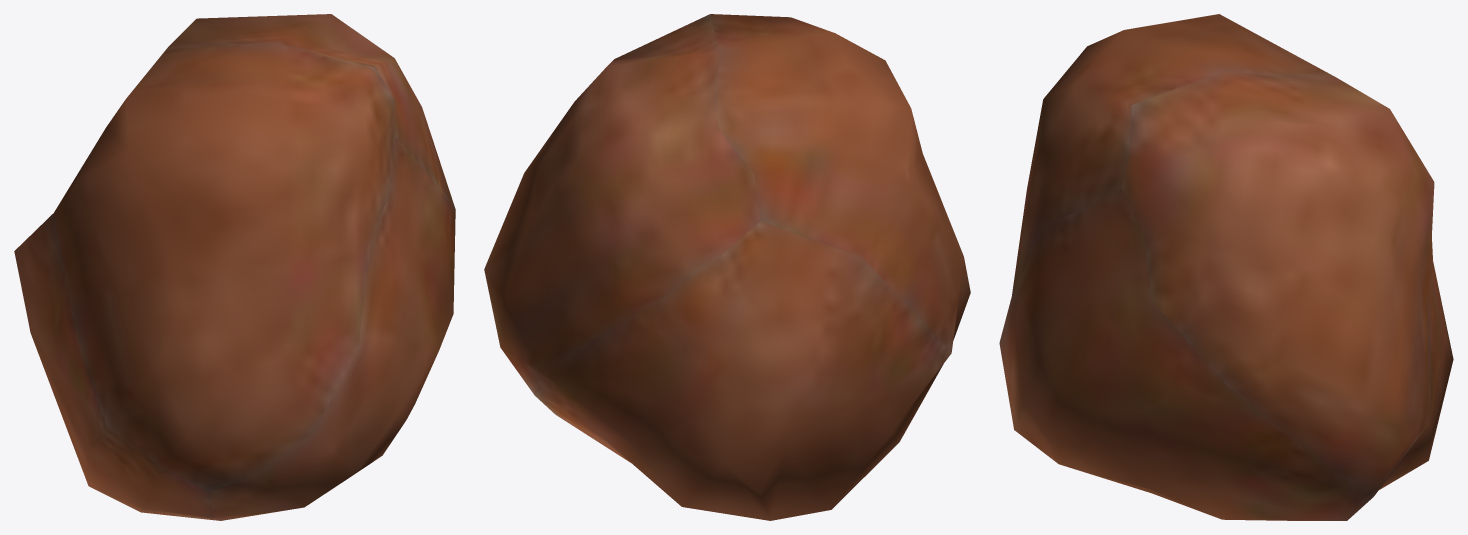
The model's file is Canyon_Rock_Boulders_5.glb.
3 renders of one model, left to right at view 1: azimuth 30°, elevation 25°; view 2: azimuth 150°, elevation 25°; view 3: azimuth 270°, elevation 25°, orthographic. The views are drawn at different scales.
Visible parts, largest first — view 1: Canyon_Rock_Boulders_5_0; view 2: Canyon_Rock_Boulders_5_0; view 3: Canyon_Rock_Boulders_5_0.
Part boxes in pixels (x1,y1,x2,y2): Canyon_Rock_Boulders_5_0: [14, 14, 455, 520]; Canyon_Rock_Boulders_5_0: [484, 14, 970, 520]; Canyon_Rock_Boulders_5_0: [999, 14, 1453, 520].
Size of the model in its own units: 2.36 by 2.51 by 2.27.
Materials: 1 (1 with a texture image).
